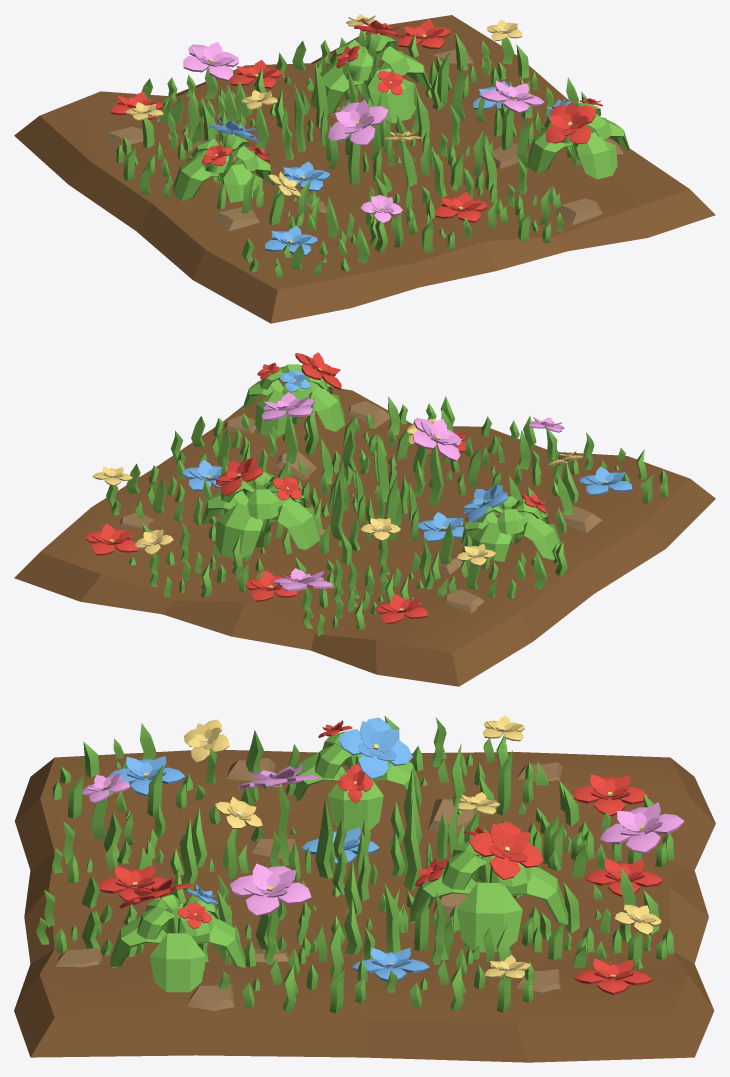
File: garden.fbx
3 renders of one model, top to bottom at view 1: azimuth 30°, elevation 25°; view 2: azimuth 150°, elevation 25°; view 3: azimuth 270°, elevation 25°, orthographic. The views are drawn at different scales.
Visible parts, largest first — view 1: Garden; view 2: Garden; view 3: Garden.
Boxes of the visible parts, left/top/right/bottom form: Garden: left=14, top=14, right=715, bottom=323; Garden: left=14, top=352, right=715, bottom=686; Garden: left=14, top=715, right=715, bottom=1062.
Size of the model in its own units: 210 by 47.85 by 211.
